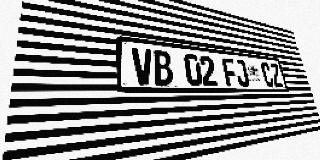0: (183, 53, 203, 86)
2: (199, 55, 217, 86)
B: (152, 50, 174, 85)
C: (260, 62, 275, 87)
F: (221, 58, 239, 86)
J: (233, 59, 250, 86)
V: (131, 47, 154, 85)
Z: (269, 63, 283, 87)
